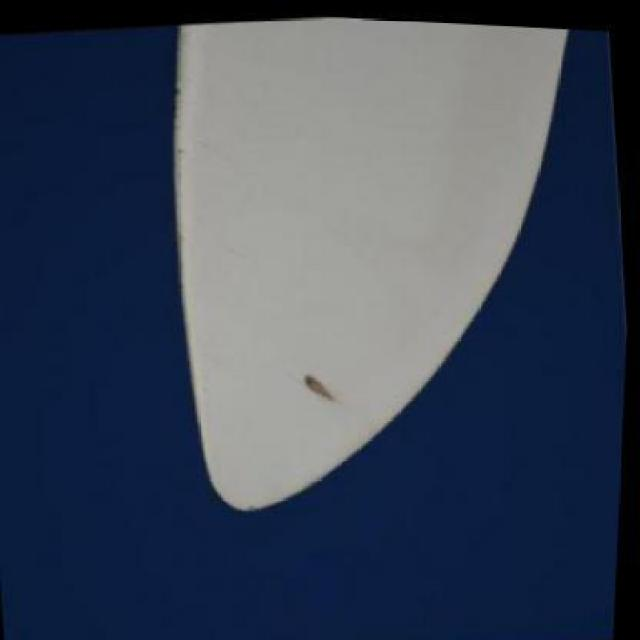Burn Mark: (303, 368, 335, 398)
